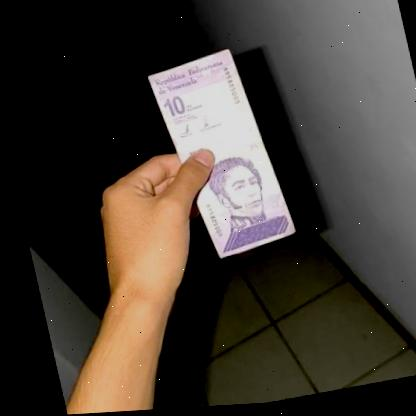ten-front-vef: (141, 47, 294, 267)
